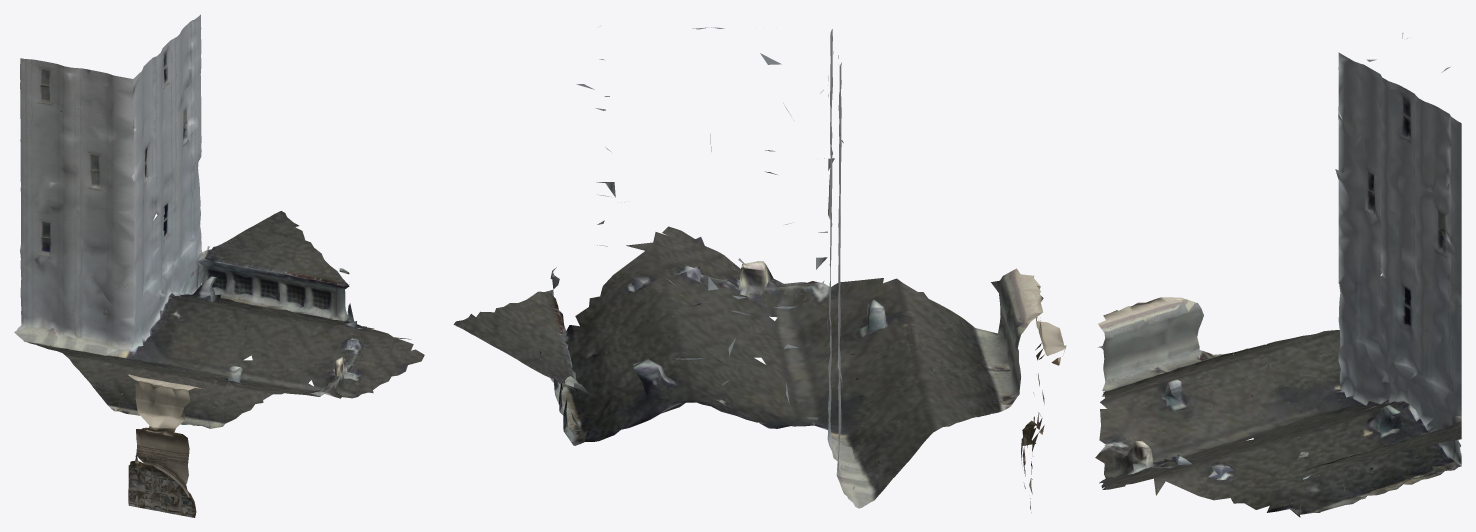
The picture shows the model from 3 angles, left to right: view 1: azimuth 30°, elevation 25°; view 2: azimuth 150°, elevation 25°; view 3: azimuth 270°, elevation 25°; orthographic projection. The views are drawn at different scales.
Bounding box in the file's own units: 17.38 × 21.7 × 16.06.
1 material, 1 textured.
